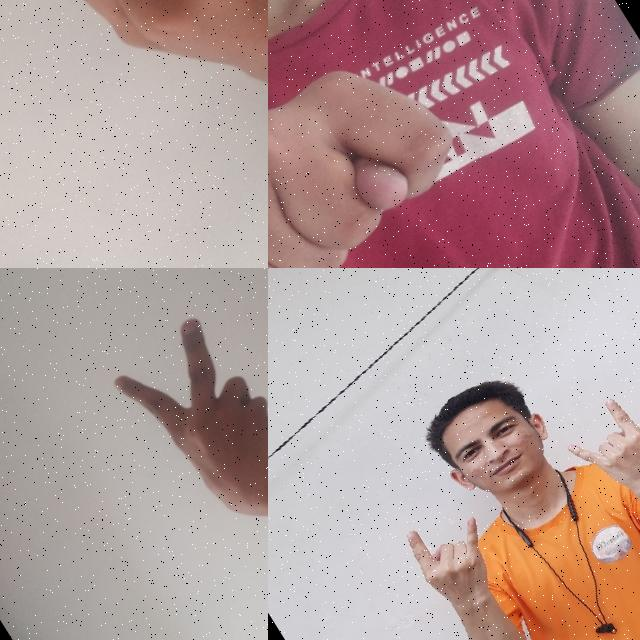Corna: (390, 488, 520, 626), (548, 383, 640, 515)
Dulya: (268, 22, 495, 268)
Middle Finger: (0, 0, 268, 145)
Reversed Victory: (94, 295, 268, 565)
